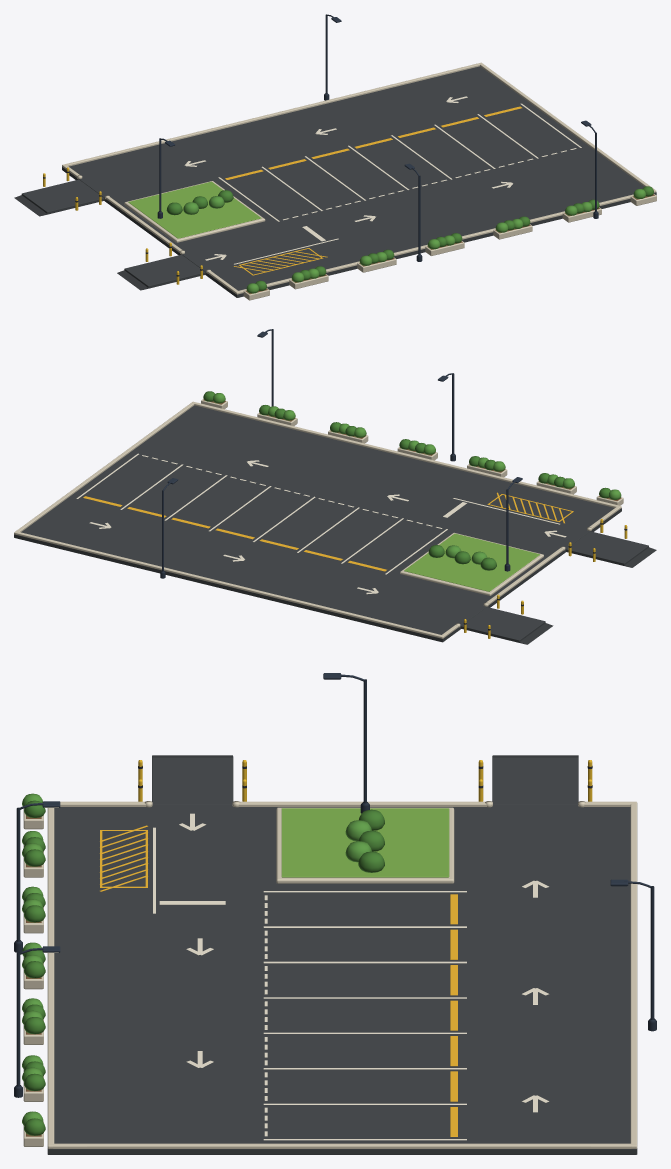
The model's file is RedeFleetYard.fbx.
3 renders of one model, top to bottom at view 1: azimuth 30°, elevation 25°; view 2: azimuth 150°, elevation 25°; view 3: azimuth 270°, elevation 25°, orthographic. The views are drawn at different scales.
Parts seen in each view (by area): view 1: RedeFleetYard_Body.003; view 2: RedeFleetYard_Body.003; view 3: RedeFleetYard_Body.003.
Boxes of the visible parts, left/top/right/bottom form: RedeFleetYard_Body.003: left=14, top=14, right=656, bottom=300; RedeFleetYard_Body.003: left=14, top=329, right=656, bottom=644; RedeFleetYard_Body.003: left=14, top=673, right=656, bottom=1154.
Size of the model in its own units: 37.09 by 6.52 by 25.31.
